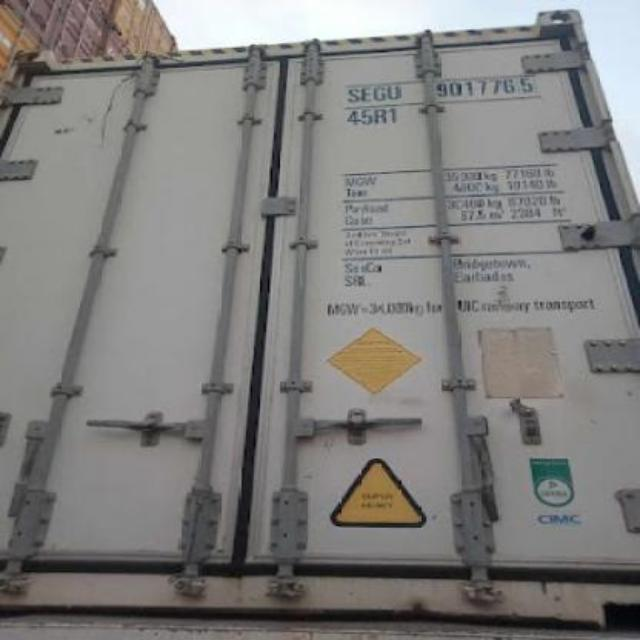0: (448, 78, 464, 100)
1: (462, 78, 476, 102)
5: (518, 74, 536, 96)
6: (502, 76, 518, 96)
7: (488, 76, 504, 96), (474, 76, 488, 96)
9: (434, 79, 448, 99)
E: (361, 84, 374, 104)
G: (374, 84, 388, 104)
S: (346, 86, 362, 102)
U: (386, 81, 404, 102)
